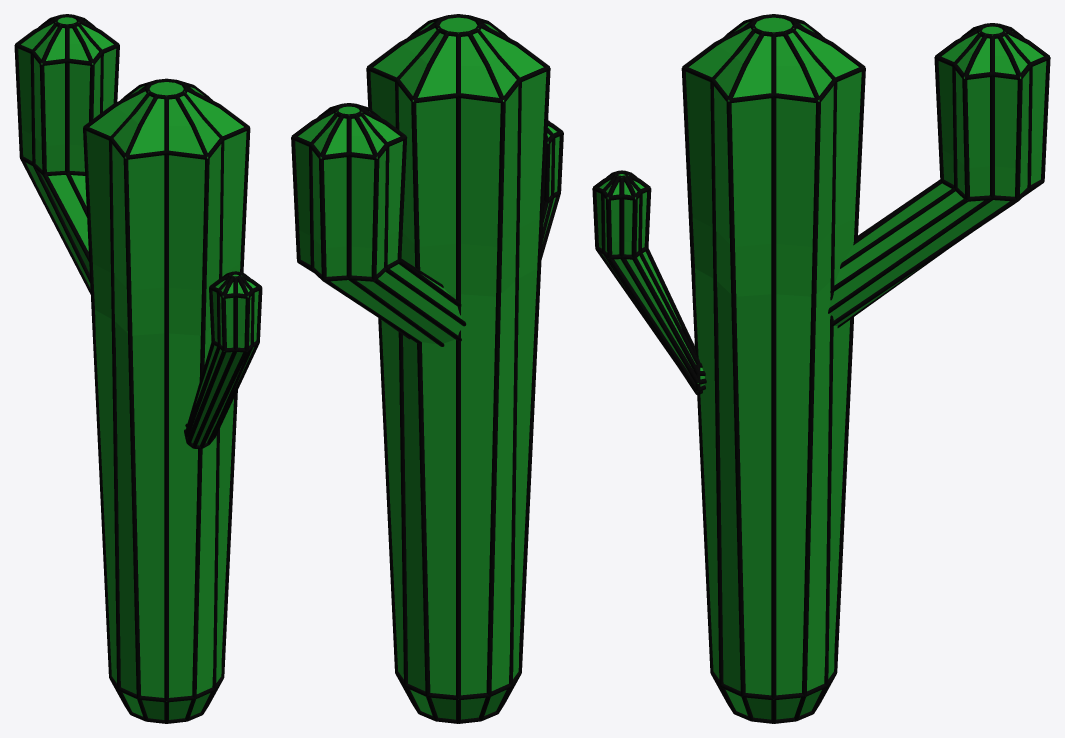
The model's file is cactus_old.glb.
The picture shows the model from 3 angles, left to right: view 1: azimuth 30°, elevation 25°; view 2: azimuth 150°, elevation 25°; view 3: azimuth 270°, elevation 25°; orthographic projection. The views are drawn at different scales.
Visible parts, largest first — view 1: Cylinder.002; view 2: Cylinder.002; view 3: Cylinder.002.
Part boxes in pixels (x1,y1,x2,y2): Cylinder.002: (14, 14, 262, 723); Cylinder.002: (291, 14, 563, 723); Cylinder.002: (592, 14, 1050, 723).
Bounding box in the file's own units: 0.641 × 3.01 × 1.83.
2 materials, 1 textured.
